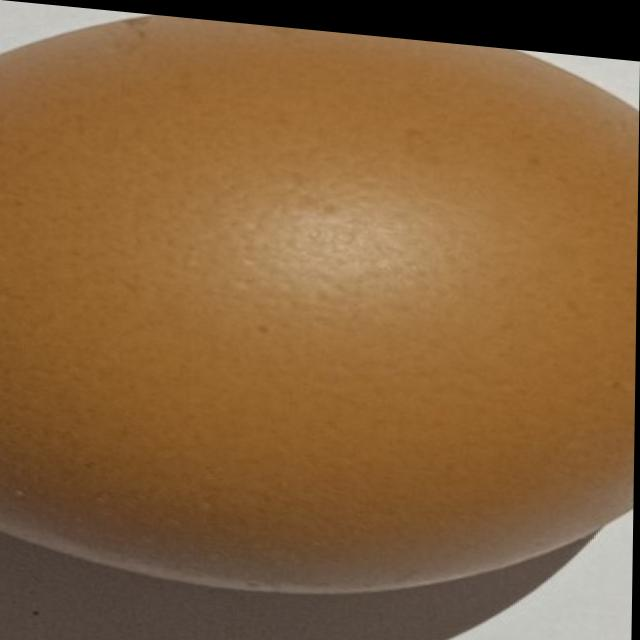fresh: (0, 1, 640, 609)
